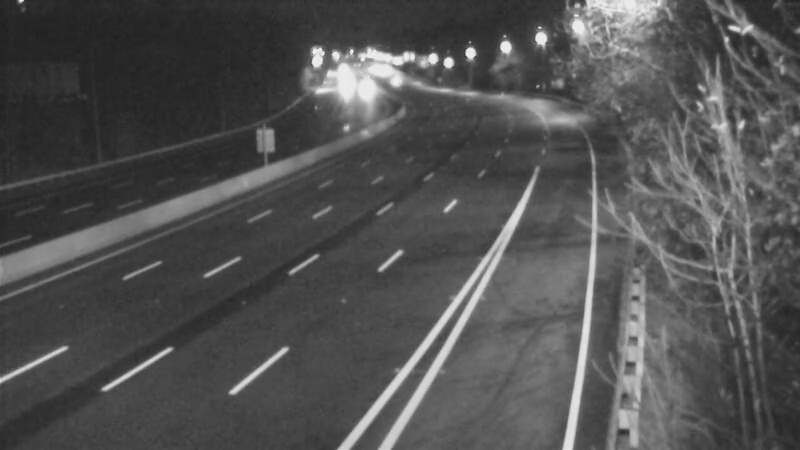vehicle: (367, 55, 417, 105), (341, 62, 391, 112)
